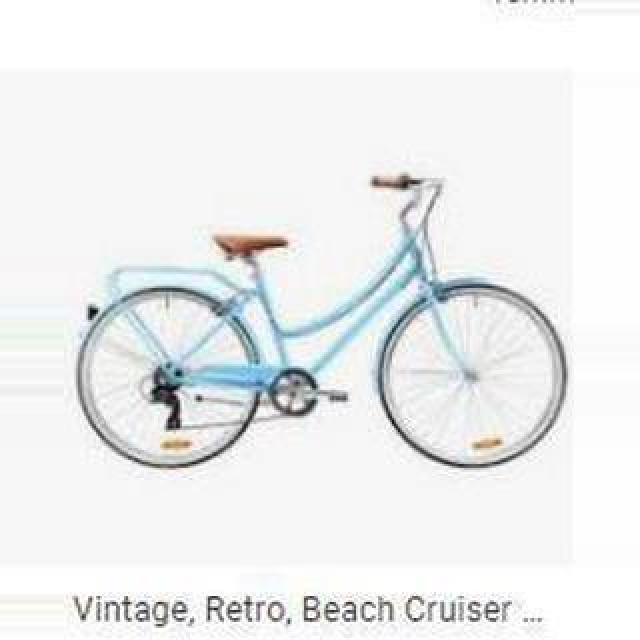Person: (73, 170, 571, 484)
